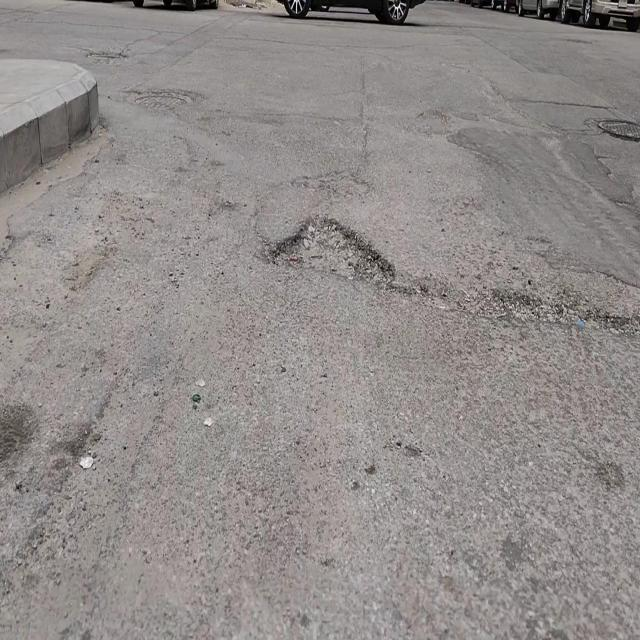Potholes: (263, 212, 390, 287)
